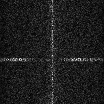wifi: (1, 57, 104, 61)
